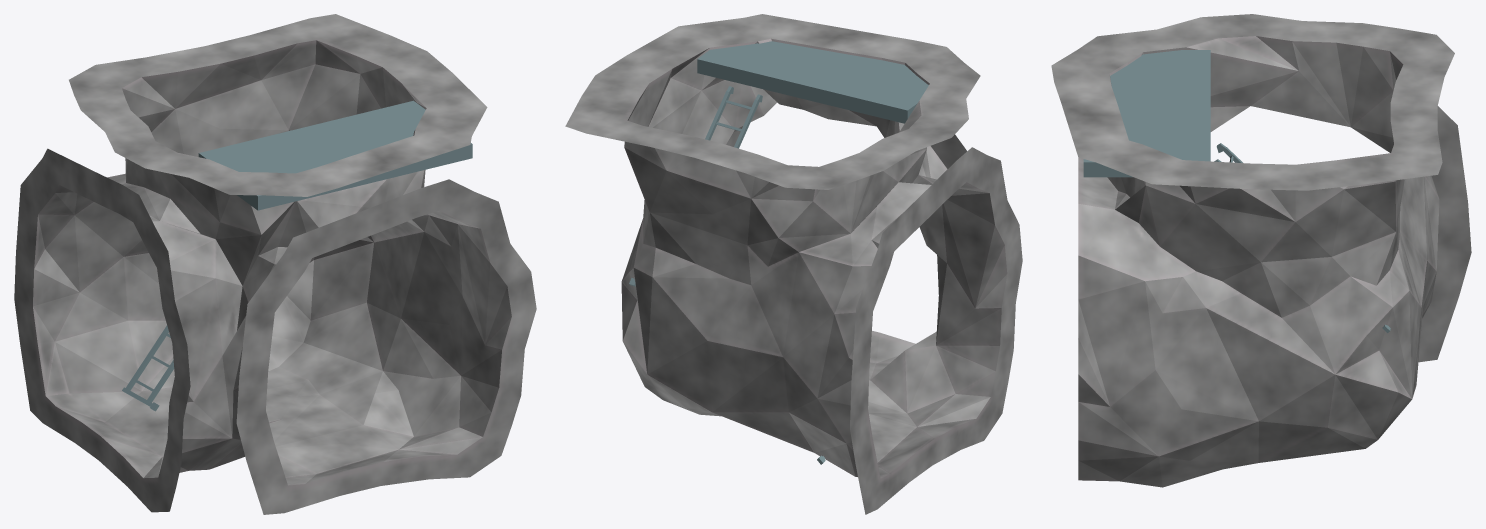
File: LUpConnector.gltf
3 renders of one model, left to right at view 1: azimuth 30°, elevation 25°; view 2: azimuth 150°, elevation 25°; view 3: azimuth 270°, elevation 25°, orthographic. The views are drawn at different scales.
Parts seen in each view (by area): view 1: LUpConnector; view 2: LUpConnector; view 3: LUpConnector.
Part boxes in pixels (x1,y1,x2,y2): LUpConnector: (14, 14, 536, 514); LUpConnector: (565, 14, 1022, 514); LUpConnector: (1051, 14, 1471, 487).
Bounding box in the file's own units: 4.81 × 4.52 × 4.8.
3 materials, 3 textured.
